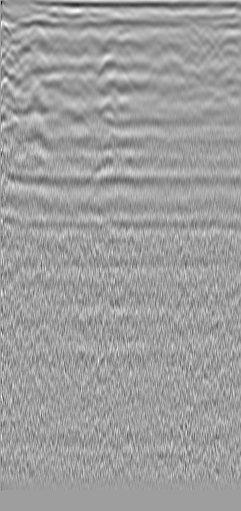상수: (25, 20, 45, 40)
우수: (149, 27, 169, 47)
